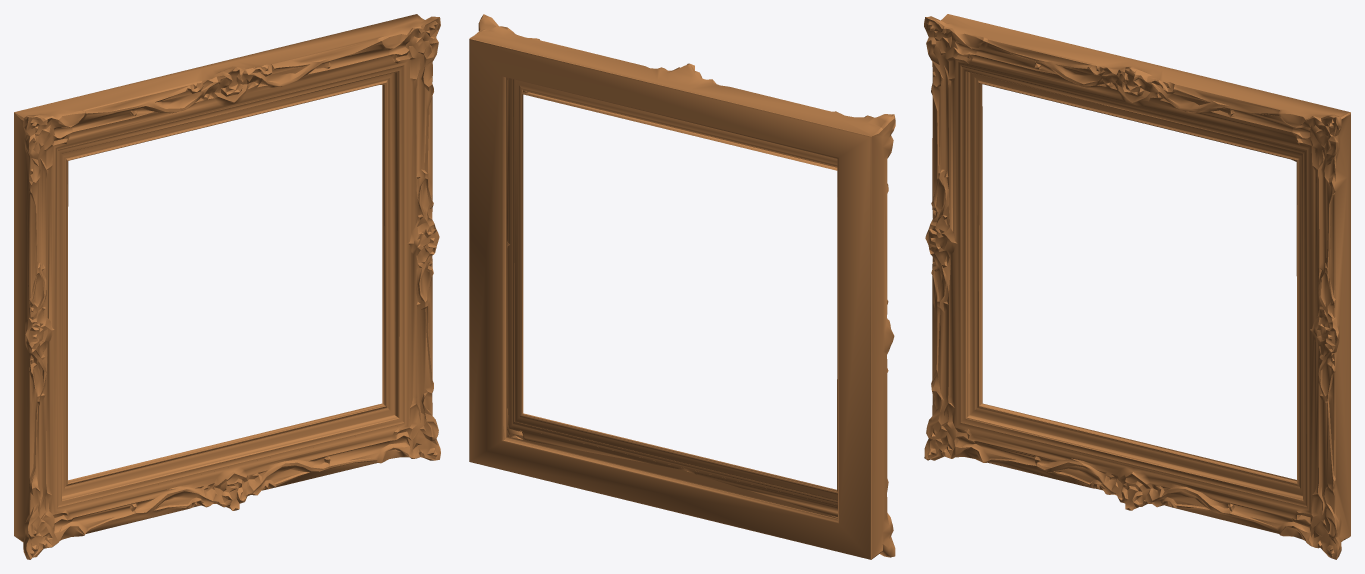
Rendered from frame3.gltf.
3 views of the same model, side by side, from view 1: azimuth 30°, elevation 25°; view 2: azimuth 150°, elevation 25°; view 3: azimuth 330°, elevation 25° (orthographic).
Visible parts, largest first — view 1: SM_Frame_Ornate_01; view 2: SM_Frame_Ornate_01; view 3: SM_Frame_Ornate_01.
Boxes of the visible parts, <box> form: SM_Frame_Ornate_01: <box>14,14,440,559</box>; SM_Frame_Ornate_01: <box>469,14,895,559</box>; SM_Frame_Ornate_01: <box>924,14,1350,559</box>.
Size of the model in its own units: 1.4 by 1.43 by 0.1227.
